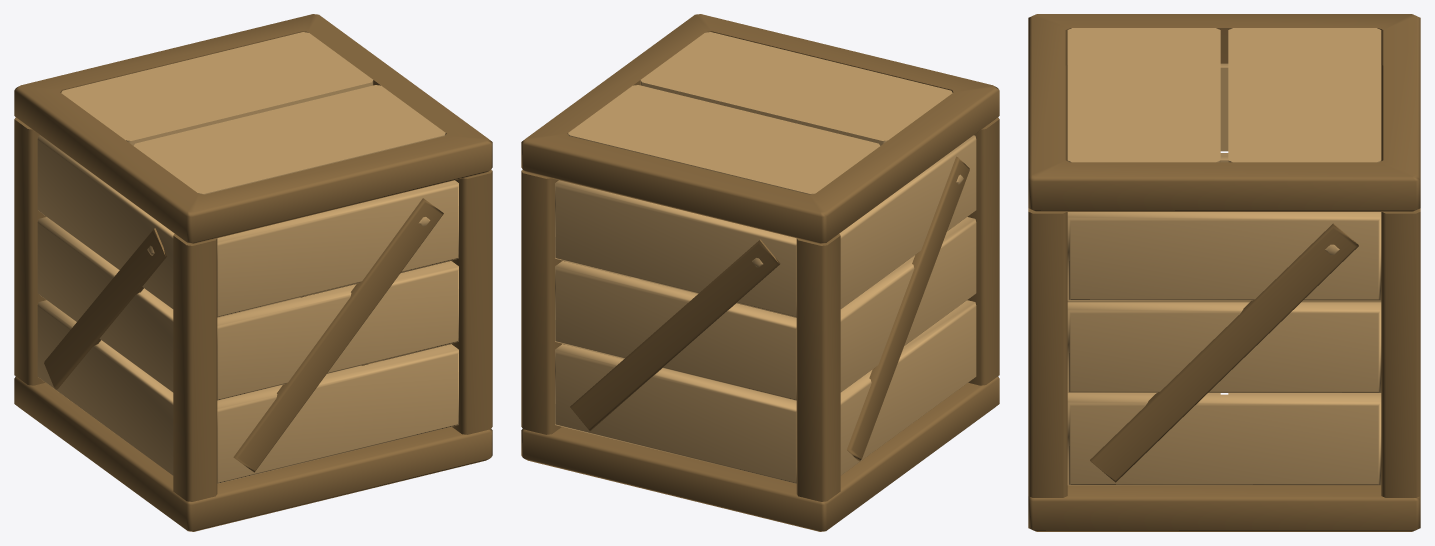
File: fine_crate.glb
The picture shows the model from 3 angles, left to right: view 1: azimuth 30°, elevation 25°; view 2: azimuth 150°, elevation 25°; view 3: azimuth 270°, elevation 25°; orthographic projection. The views are drawn at different scales.
Visible parts, largest first — view 1: fine_crate_structure; view 2: fine_crate_structure; view 3: fine_crate_structure.
Part boxes in pixels (left/top/right/bottom): fine_crate_structure: left=14, top=14, right=492, bottom=531; fine_crate_structure: left=521, top=14, right=999, bottom=531; fine_crate_structure: left=1028, top=14, right=1420, bottom=531.
Bounding box in the file's own units: 1 × 1 × 1.
